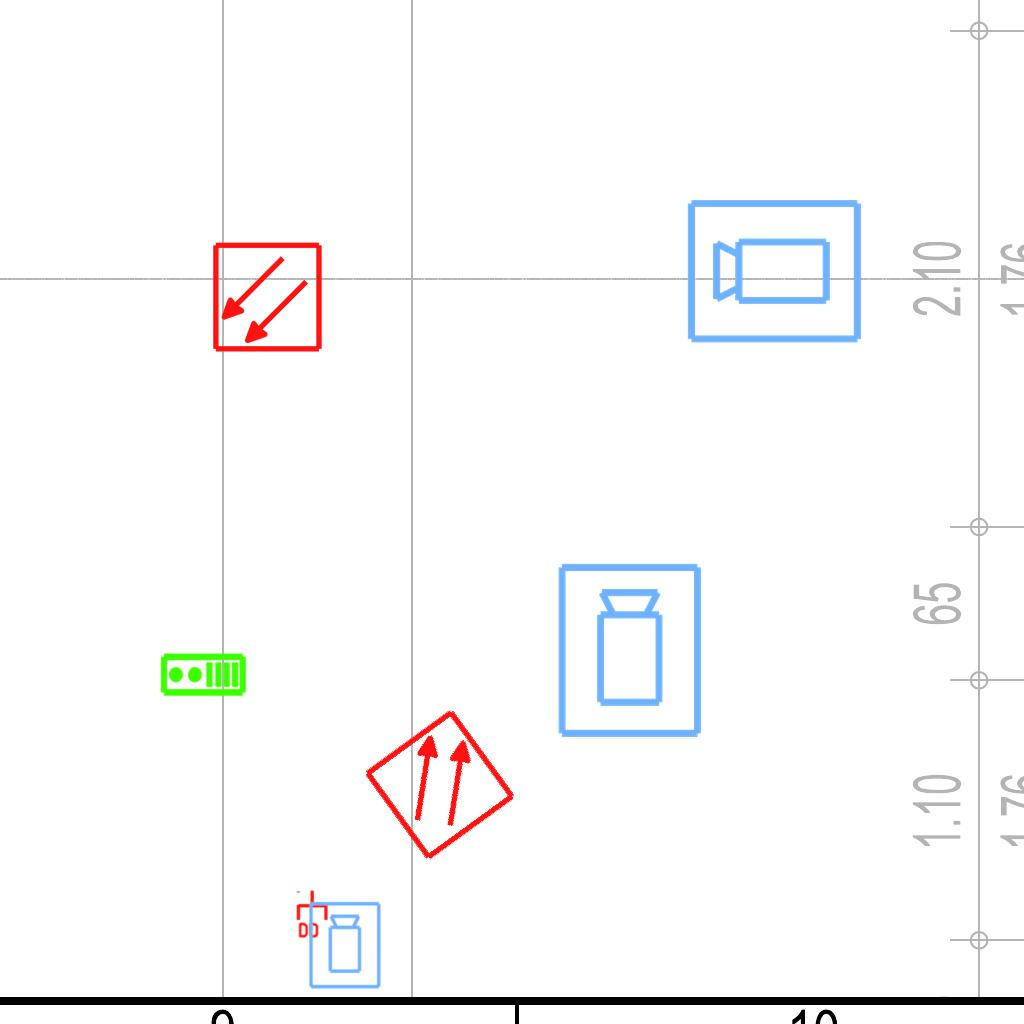Datenanschluss_zweifach: (296, 889, 330, 940)
Gegensprechanlage_mit_Video: (159, 652, 247, 699)
KFO_Kamera_mit_Festobjektiv: (554, 560, 708, 742), (684, 193, 866, 347), (307, 900, 384, 991)
RMO_Rauchmelder_optischer: (360, 705, 519, 864), (211, 241, 324, 354)
